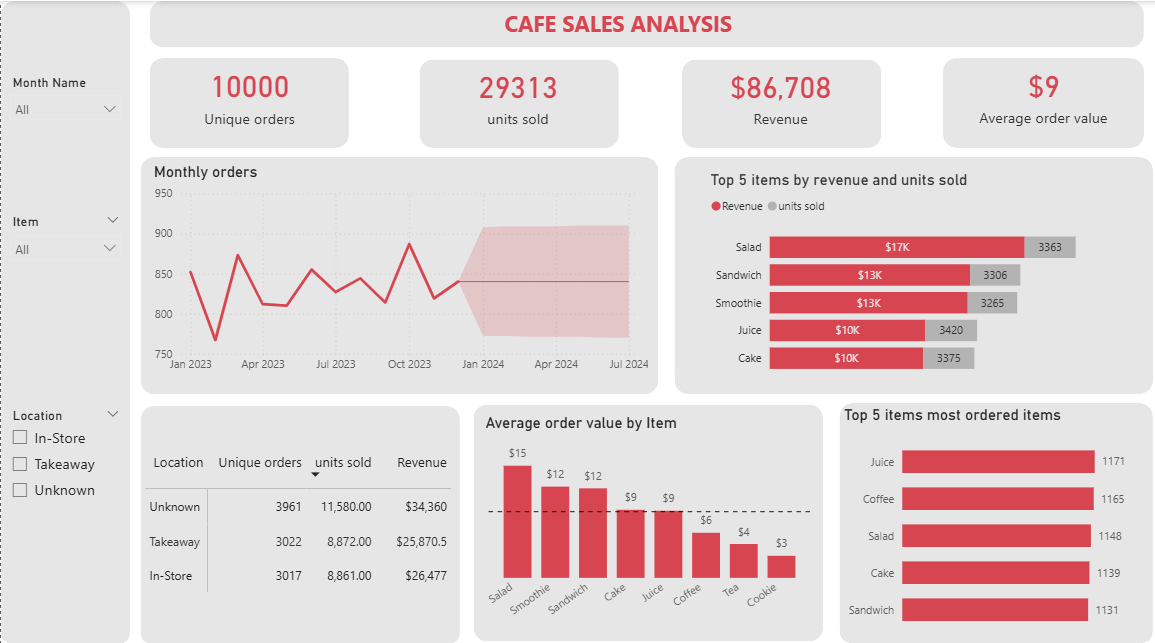

The page's visual inventory and layout, read from the dashboard file:
{"tool":"powerbi","page":{"name":"Page 1","canvas":[1280,720],"ordinal":0},"visuals":[{"type":"shape","box":[926,443.9,346.2,266.7],"z":0},{"type":"shape","box":[154.1,447.2,352.8,265],"z":1000},{"type":"shape","box":[521.8,445.6,386,261.7],"z":2000},{"type":"shape","box":[154.1,172.9,571.8,262.1],"z":3000},{"type":"shape","box":[155.7,62.9,220.3,99.4],"z":4000},{"type":"shape","box":[442.3,62.9,220.3,97.7],"z":5000},{"type":"shape","box":[743.8,59.6,220.3,97.7],"z":6000},{"type":"shape","box":[1040.3,62.9,222,99.4],"z":7000},{"type":"advanceCardE03760C5AB684758B56AA29F9E6C257B","fields":{"mainMeasure":["Measure.Unique orders"]},"box":[154.1,71.2,220.3,86.1],"z":8000},{"type":"advanceCardE03760C5AB684758B56AA29F9E6C257B","fields":{"mainMeasure":["Measure.units sold"]},"box":[442.3,66.3,220.3,84.5],"z":9000},{"type":"advanceCardE03760C5AB684758B56AA29F9E6C257B","fields":{"mainMeasure":["Measure.Revenue"]},"box":[743.8,62.9,220.3,84.5],"z":10000},{"type":"advanceCardE03760C5AB684758B56AA29F9E6C257B","fields":{"mainMeasure":["Measure.Average order value"]},"box":[1040.3,62.9,222,84.5],"z":11000},{"type":"lineChart","title":"Monthly orders","fields":{"Category":["Calendar.Start of Month"],"Y":["Measure.Unique orders"]},"box":[164,178.9,556,240.3],"z":12000},{"type":"shape","box":[743.8,172.3,528.4,261.7],"z":13000},{"type":"barChart","title":"Top 5 items by revenue and units sold","fields":{"Category":["dirty_cafe_sales.Item"],"Y":["Measure.Revenue","Measure.units sold"]},"box":[777.7,186.4,493.6,236.9],"z":14000},{"type":"pivotTable","fields":{"Rows":["dirty_cafe_sales.Location"],"Values":["Measure.Unique orders","Measure.units sold","Measure.Revenue"]},"box":[154.1,483.7,352.8,197.1],"z":15000},{"type":"clusteredColumnChart","fields":{"Category":["dirty_cafe_sales.Item"],"Y":["Measure.Average order value"]},"box":[530.1,455.5,369.4,245.2],"z":16000},{"type":"shape","box":[0,0,142.5,712.3],"z":17000},{"type":"clusteredBarChart","title":"Top 5 items most ordered items","fields":{"Category":["dirty_cafe_sales.Item"],"Y":["Measure.Unique orders"]},"box":[926,447.2,346.2,260.1],"z":18000},{"type":"slicer","fields":{"Values":["dirty_cafe_sales.Location"]},"box":[0,443.9,142.5,124.2],"z":19000},{"type":"slicer","fields":{"Values":["Calendar.Month Name"]},"box":[0,76.2,142.5,74.5],"z":20000},{"type":"slicer","fields":{"Values":["dirty_cafe_sales.Item"]},"box":[0,230.3,142.5,74.5],"z":21000},{"type":"shape","box":[154.1,0,1108.2,51.4],"z":21001},{"type":"textbox","box":[531.7,3.3,299.8,48],"z":21002}]}

Visuals, with their boxes on the page's 1280x720 design canvas (x1, y1, x2, y2). These are canvas units, not pixel positions in the 1155x643 screenshot, which may show the page scaled, cropped or inside an application window:
shape: 926:444:1272:711
shape: 154:447:507:712
shape: 522:446:908:707
shape: 154:173:726:435
shape: 156:63:376:162
shape: 442:63:663:161
shape: 744:60:964:157
shape: 1040:63:1262:162
advanceCardE03760C5AB684758B56AA29F9E6C257B - Measure.Unique orders: 154:71:374:157
advanceCardE03760C5AB684758B56AA29F9E6C257B - Measure.units sold: 442:66:663:151
advanceCardE03760C5AB684758B56AA29F9E6C257B - Measure.Revenue: 744:63:964:147
advanceCardE03760C5AB684758B56AA29F9E6C257B - Measure.Average order value: 1040:63:1262:147
"Monthly orders" lineChart: 164:179:720:419
shape: 744:172:1272:434
"Top 5 items by revenue and units sold" barChart: 778:186:1271:423
pivotTable - dirty_cafe_sales.Location x Measure.Unique orders: 154:484:507:681
clusteredColumnChart - dirty_cafe_sales.Item x Measure.Average order value: 530:456:900:701
shape: 0:0:142:712
"Top 5 items most ordered items" clusteredBarChart: 926:447:1272:707
slicer - dirty_cafe_sales.Location: 0:444:142:568
slicer - Calendar.Month Name: 0:76:142:151
slicer - dirty_cafe_sales.Item: 0:230:142:305
shape: 154:0:1262:51
textbox: 532:3:832:51
